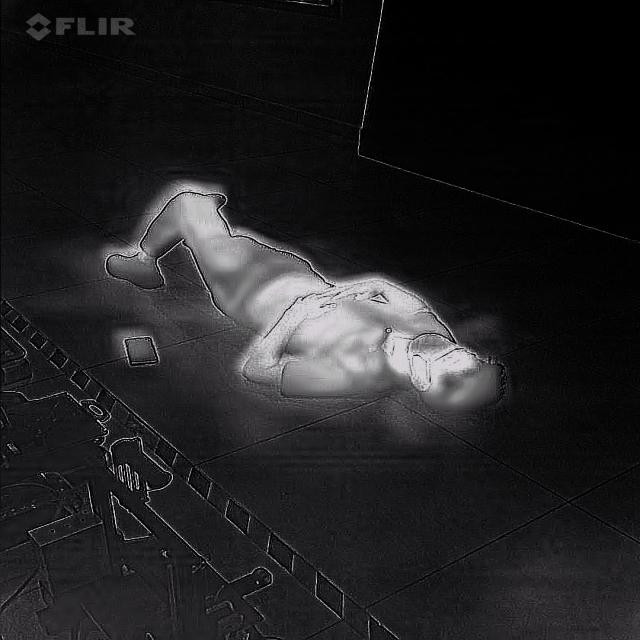Victim: (92, 172, 512, 430)
